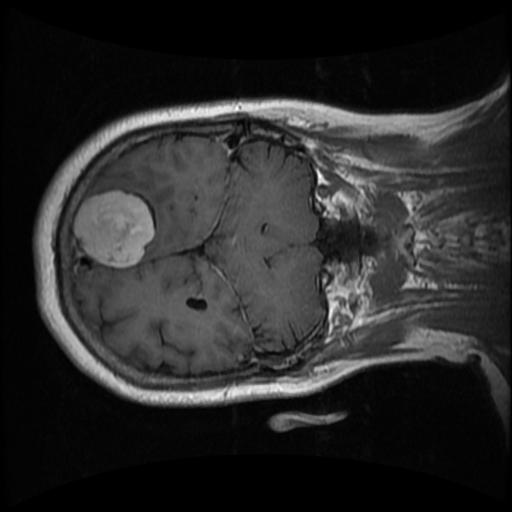meningioma: (72, 189, 156, 268)
